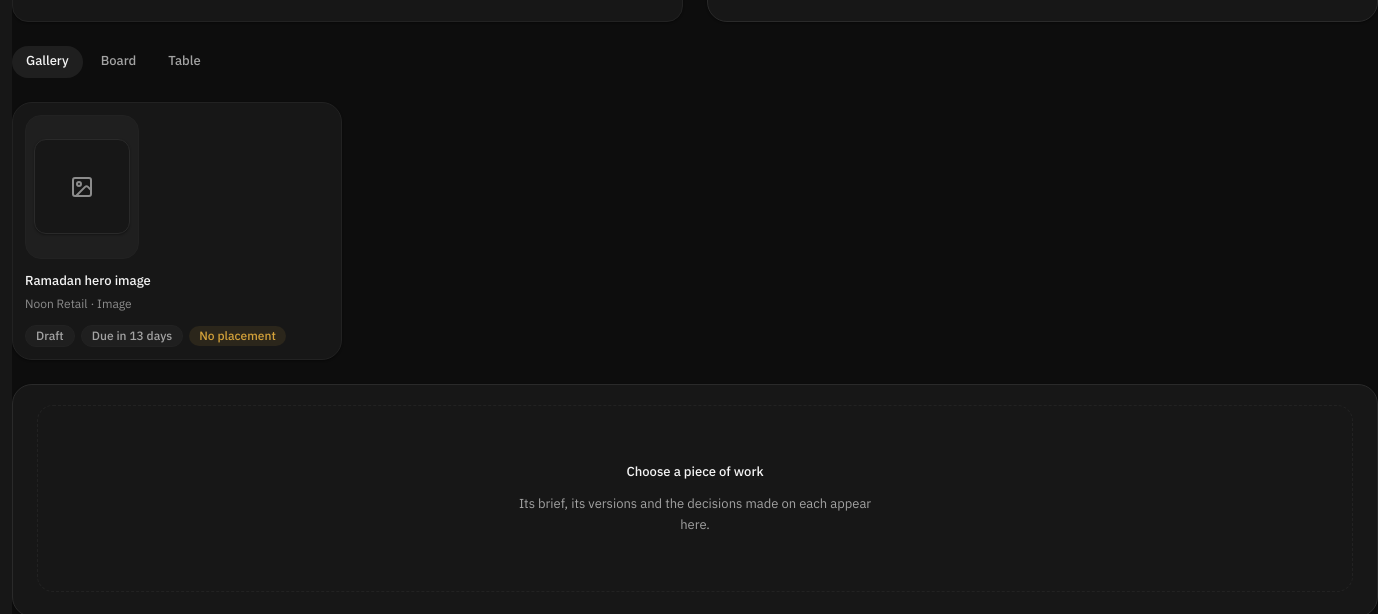
the creative hub › warns when an approval no longer covers the newest version
The image size is (1378, 614).
(page scrolled)
Click the button "Ramadan hero image".
click(82, 187)  # box 12,102 -> 342,360
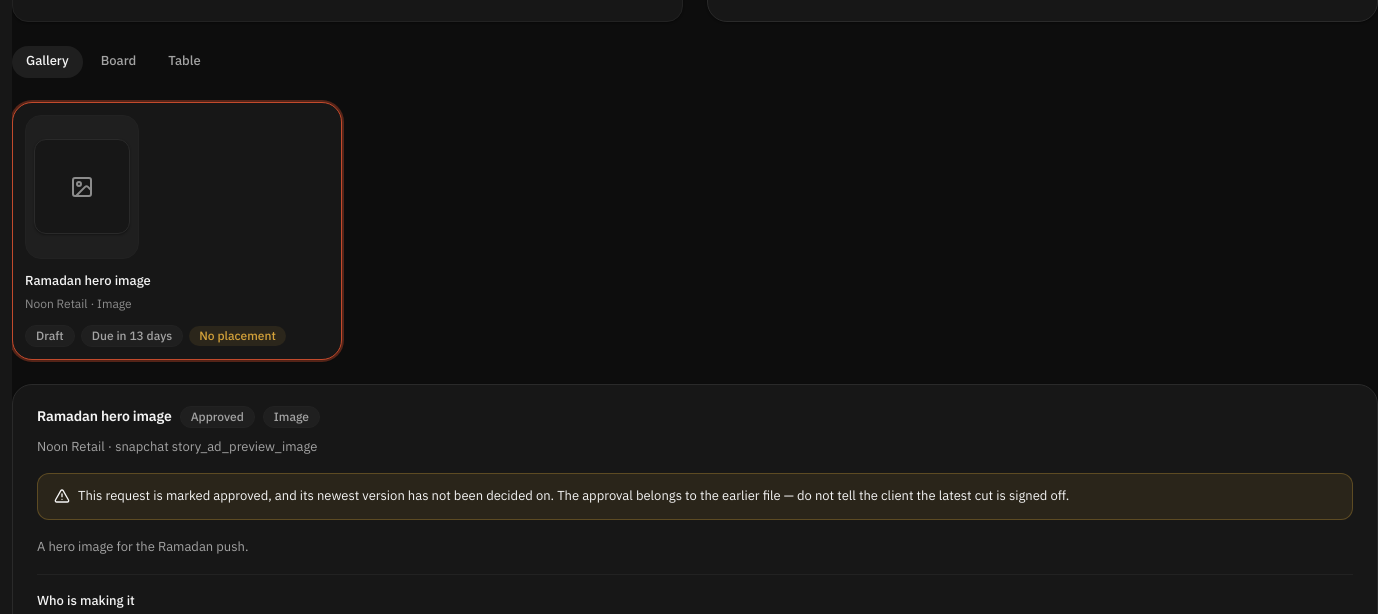
Expected: the text "do not tell the client the latest cut is signed off" is shown, 78,486 -> 1069,505
